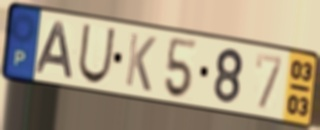5: (162, 34, 198, 101)
7: (253, 52, 284, 113)
8: (211, 46, 246, 107)
A: (34, 20, 75, 81)
K: (123, 30, 158, 95)
U: (76, 22, 118, 86)
